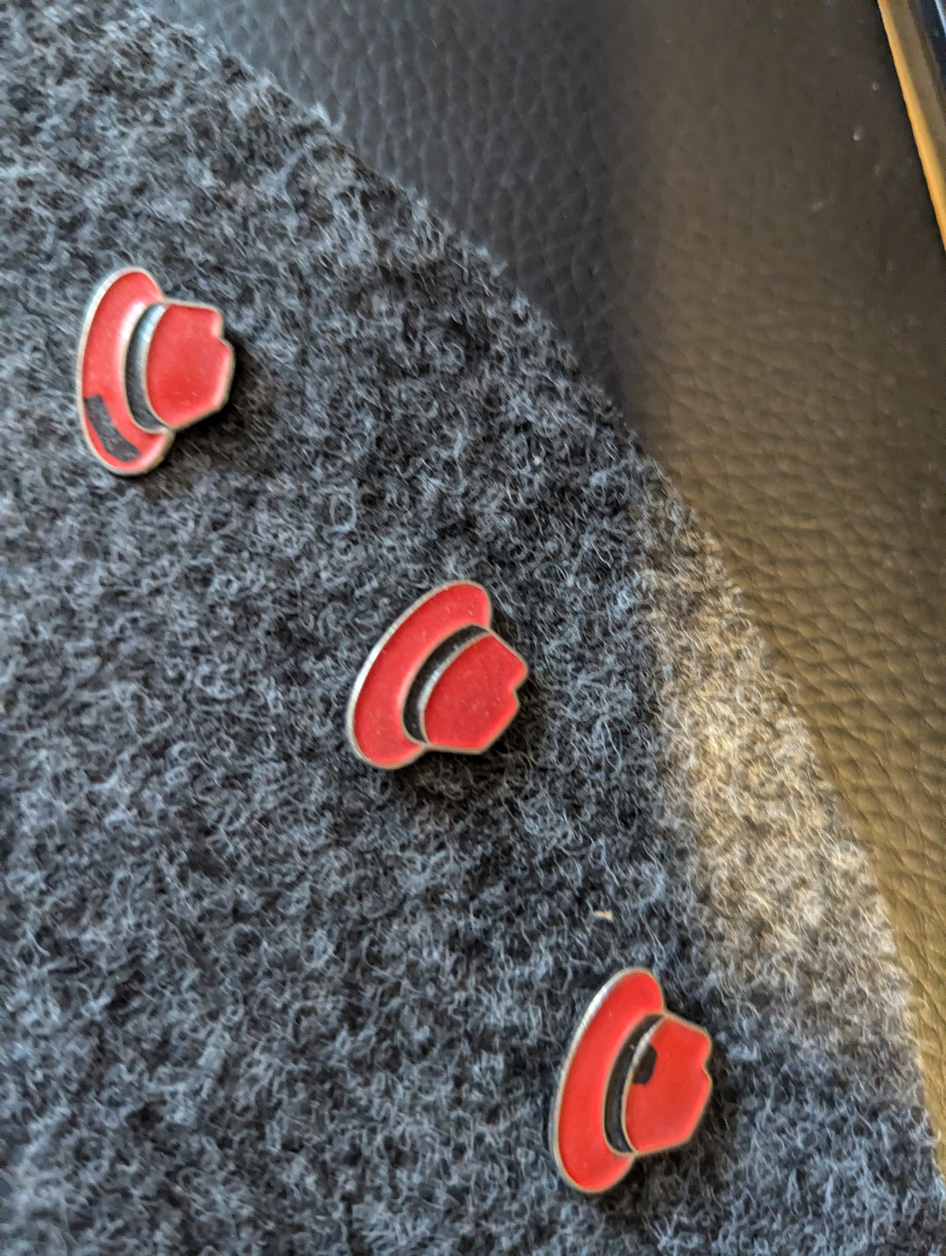Red-Hat: (520, 925, 743, 1209), (34, 228, 255, 511), (328, 545, 542, 794)
Scratch: (64, 375, 169, 482), (614, 1030, 672, 1087)
